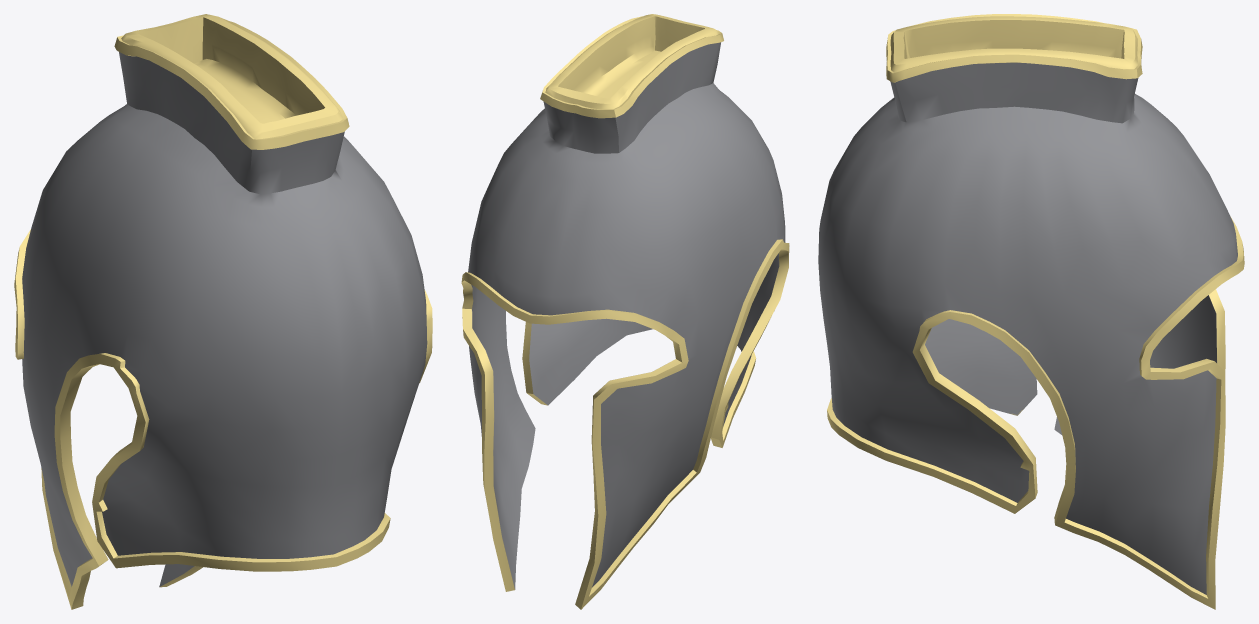
The model's file is minhelmet-processed.glb.
3 views of the same model, side by side, from view 1: azimuth 30°, elevation 25°; view 2: azimuth 150°, elevation 25°; view 3: azimuth 270°, elevation 25° (orthographic). The views are drawn at different scales.
Size of the model in its own units: 0.2301 by 0.4334 by 0.3017.
1 material, 1 textured.
